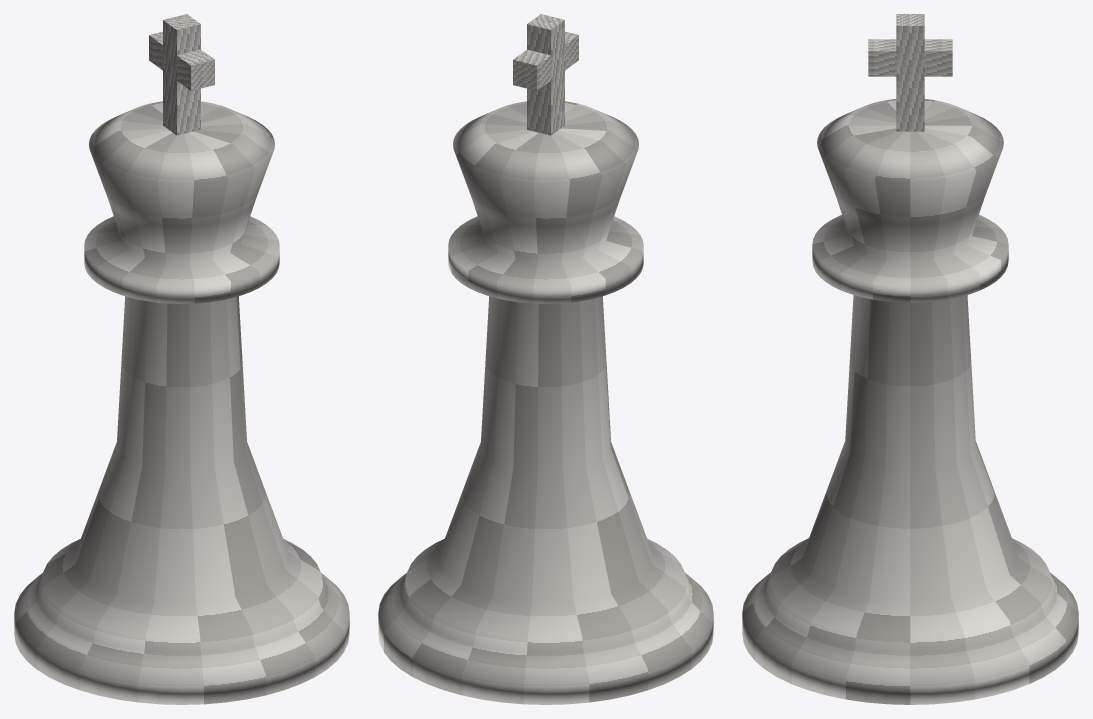
The model's file is king.glb.
3 renders of one model, left to right at view 1: azimuth 30°, elevation 25°; view 2: azimuth 150°, elevation 25°; view 3: azimuth 270°, elevation 25°, orthographic.
Parts seen in each view (by area): view 1: split-part (×2); view 2: split-part (×2); view 3: split-part (×2).
Boxes of the visible parts, x1,y1,x2,y2 form: split-part (×2): (14,14,349,704); split-part (×2): (378,14,713,704); split-part (×2): (742,14,1078,704).
Size of the model in its own units: 26.64 by 53.65 by 26.64.
Materials: 1 (1 with a texture image).
